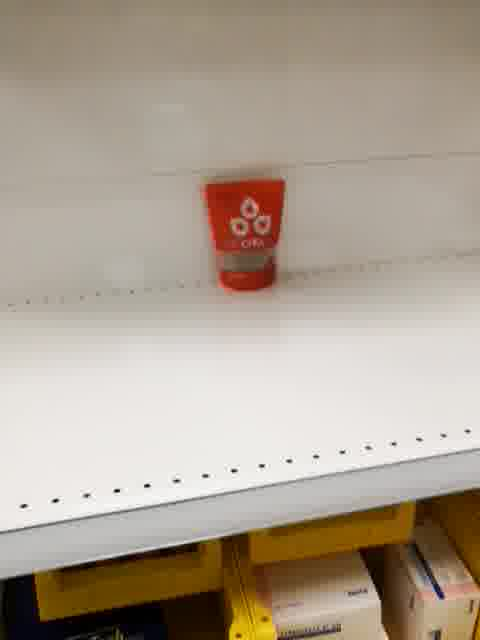whitechia: (201, 177, 289, 294)
